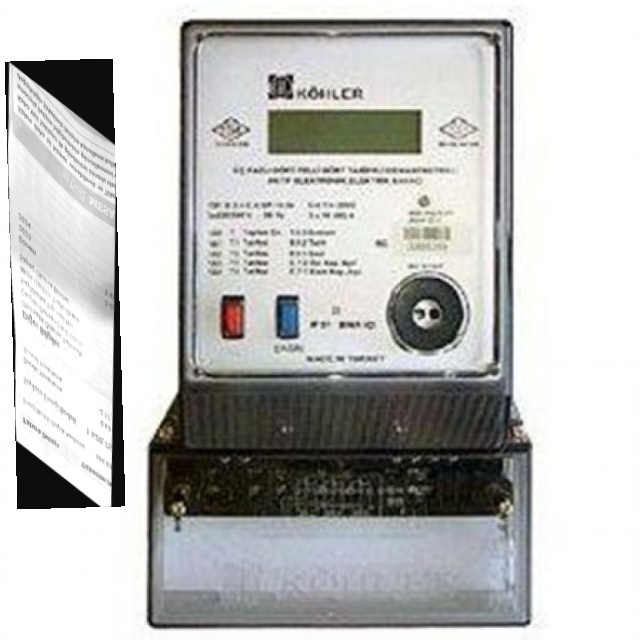electricity-bill: (4, 59, 124, 509)
